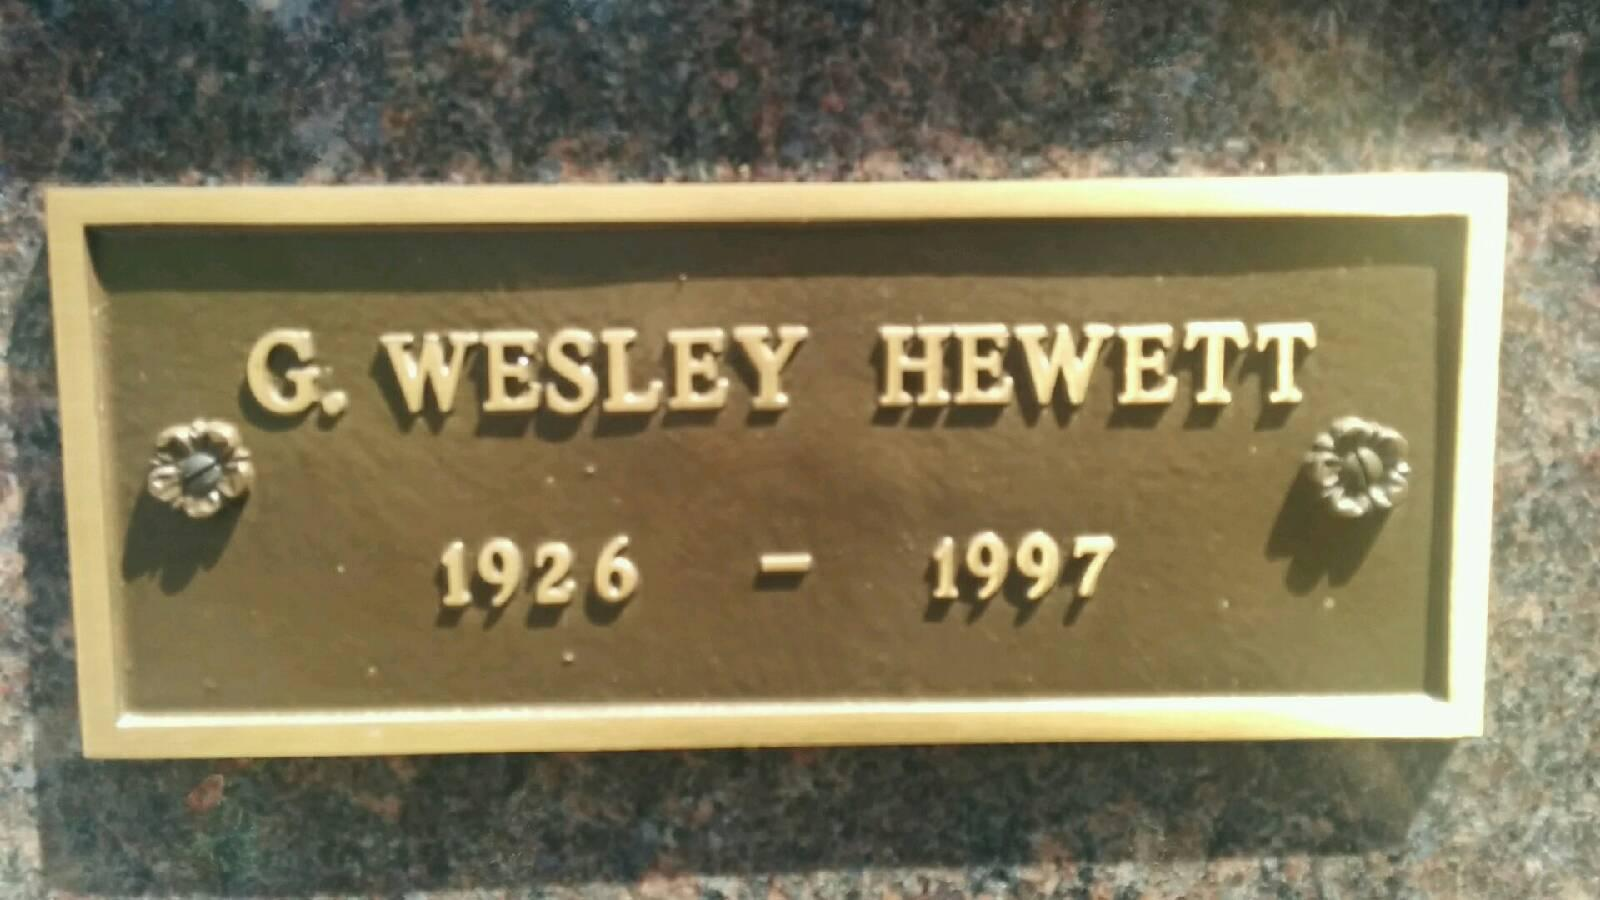plaque: (18, 167, 1516, 762)
